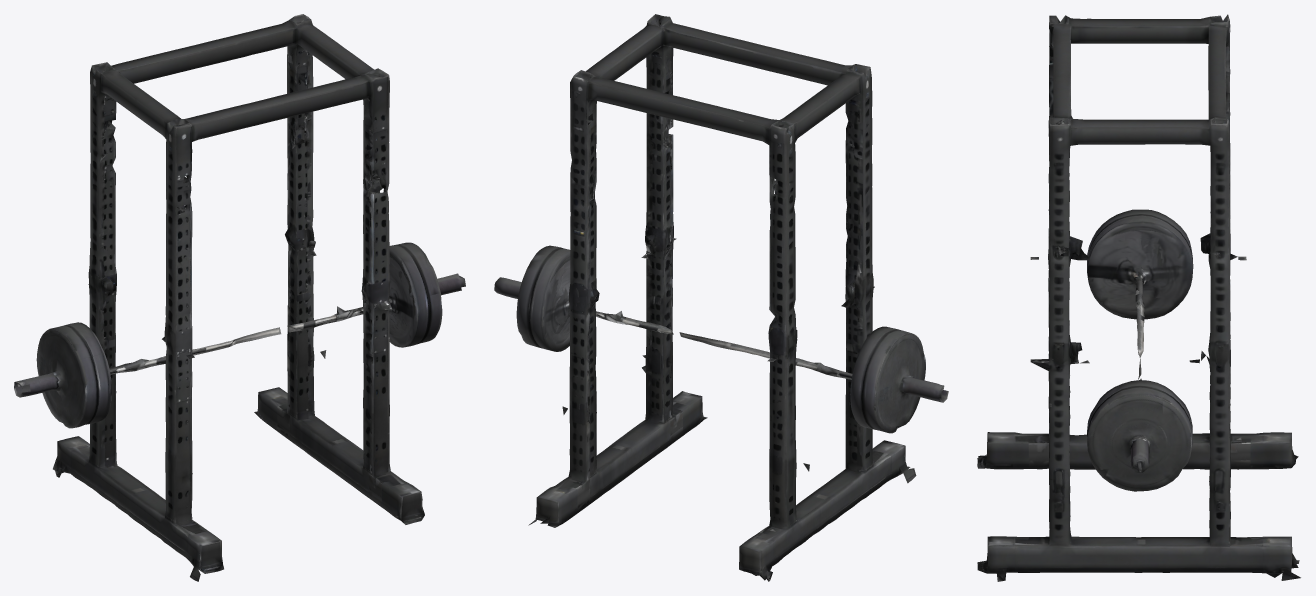
Rendered from 8960b758-cf58-4730-8710-0c5a49bbd001.glb.
The picture shows the model from 3 angles, left to right: view 1: azimuth 30°, elevation 25°; view 2: azimuth 150°, elevation 25°; view 3: azimuth 270°, elevation 25°; orthographic projection. The views are drawn at different scales.
Size of the model in its own units: 2 by 1.85 by 1.19.
Materials: 1 (1 with a texture image).
